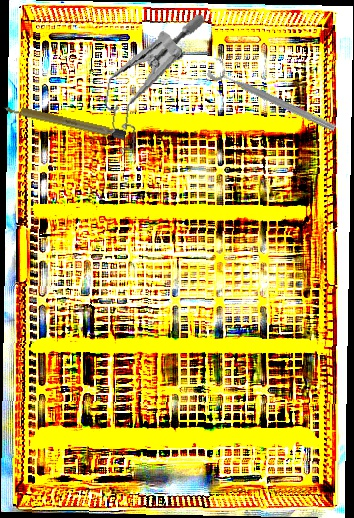Fixation Ring: (205, 55, 342, 136)
Scalpel Handle: (2, 102, 127, 140)
Speculum: (93, 1, 208, 166)
